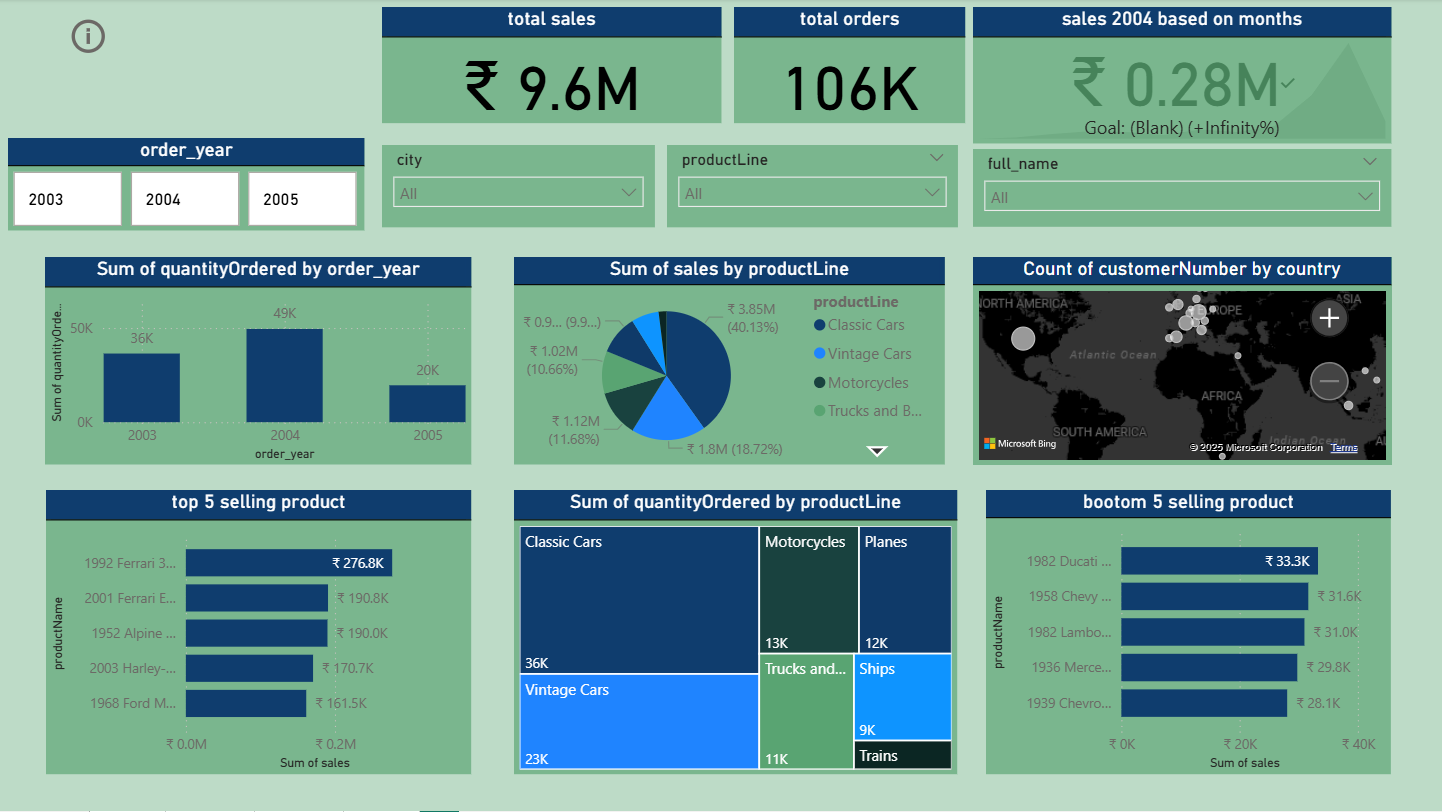

The page's visual inventory and layout, read from the dashboard file:
{"tool":"powerbi","page":{"name":"Page 1","canvas":[1280,720],"ordinal":0},"visuals":[{"type":"pieChart","fields":{"Y":["Sum(order details.sales)"],"Category":["products.productLine"]},"box":[456.7,228.4,382.4,184.5],"z":0},{"type":"advancedSlicerVisual","fields":{"Values":["orders.order_year"]},"box":[8.1,123.6,316.1,82.4],"z":1000},{"type":"card","title":"total orders","fields":{"Values":["Sum(order details.quantityOrdered)"]},"box":[651.9,7.2,205.1,103],"z":2000},{"type":"kpi","title":"sales 2004 based on months","fields":{"Goal":["orders.sales_2004"],"TrendLine":["orders.month_name"],"Indicator":["orders.sales_2003"]},"box":[863.3,7.2,370.7,120.9],"z":3000},{"type":"treemap","fields":{"Group":["products.productLine"],"Values":["Sum(order details.quantityOrdered)"]},"box":[456.7,435.2,393.1,251.6],"z":4000},{"type":"card","title":"total sales","fields":{"Values":["Sum(order details.sales)"]},"box":[339.4,7.2,300.9,103],"z":5000},{"type":"slicer","fields":{"Values":["products.productLine"]},"box":[591.9,129.9,257.9,72.5],"z":6000},{"type":"barChart","title":"top 5 selling product","fields":{"Category":["products.productName"],"Y":["Sum(order details.sales)"]},"box":[42.1,435.2,377,251.6],"z":7000},{"type":"barChart","title":"bootom 5 selling product","fields":{"Category":["products.productName"],"Y":["Sum(order details.sales)"]},"box":[874.9,435.2,359.1,251.6],"z":8000},{"type":"slicer","fields":{"Values":["offices.city"]},"box":[339.4,129.9,241.8,72.5],"z":9000},{"type":"slicer","fields":{"Values":["employees.full_name"]},"box":[863.3,133.4,370.7,69],"z":10000},{"type":"actionButton","box":[59.8,13.5,55.3,39.5],"z":11000},{"type":"clusteredColumnChart","fields":{"Category":["orders.order_year"],"Y":["Sum(order details.quantityOrdered)"]},"box":[41.2,228.4,377.9,184.5],"z":12000},{"type":"map","fields":{"Size":["CountNonNull(customers.customerNumber)"],"Category":["customers.country"]},"box":[863.3,228.4,370.7,184.5],"z":13000}]}

Visuals, with their boxes in screenshot pixels (x1, y1, x2, y2), scaled from the page's 1280x720 canvas onto the 1442x812 screenshot:
pieChart - Sum(order details.sales) x products.productLine: <region>515, 258, 945, 466</region>
advancedSlicerVisual - orders.order_year: <region>9, 139, 365, 232</region>
"total orders" card: <region>734, 8, 965, 124</region>
"sales 2004 based on months" kpi: <region>973, 8, 1390, 144</region>
treemap - products.productLine x Sum(order details.quantityOrdered): <region>515, 491, 957, 775</region>
"total sales" card: <region>382, 8, 721, 124</region>
slicer - products.productLine: <region>667, 146, 957, 228</region>
"top 5 selling product" barChart: <region>47, 491, 472, 775</region>
"bootom 5 selling product" barChart: <region>986, 491, 1390, 775</region>
slicer - offices.city: <region>382, 146, 655, 228</region>
slicer - employees.full_name: <region>973, 150, 1390, 228</region>
actionButton: <region>67, 15, 130, 60</region>
clusteredColumnChart - orders.order_year x Sum(order details.quantityOrdered): <region>46, 258, 472, 466</region>
map - CountNonNull(customers.customerNumber) x customers.country: <region>973, 258, 1390, 466</region>
